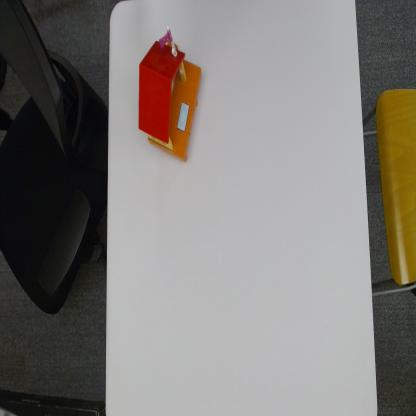House: (139, 29, 202, 164)
